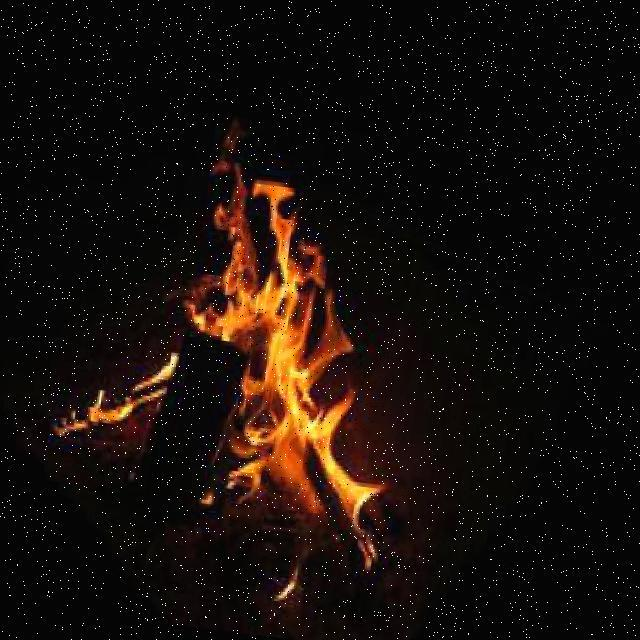Fire: (42, 121, 432, 587)
